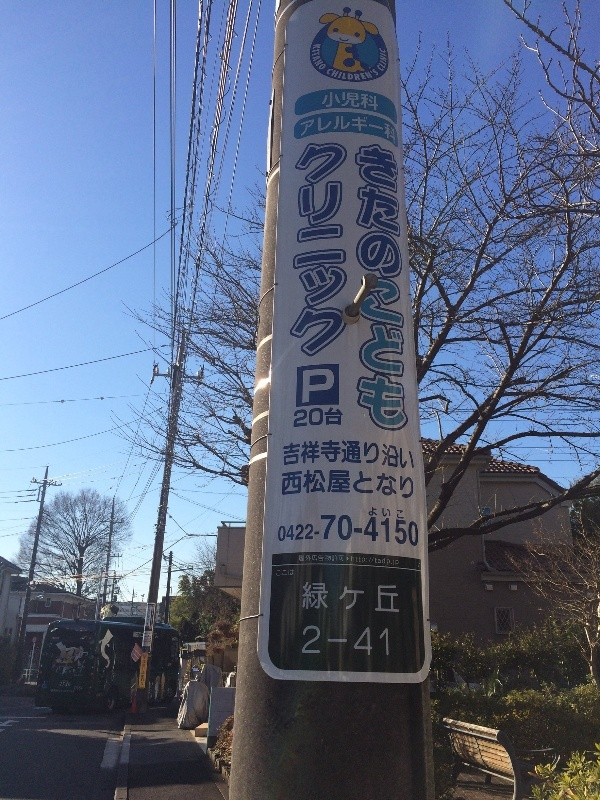text: (369, 144, 384, 434), (385, 144, 400, 434), (355, 144, 368, 434), (305, 141, 320, 358), (321, 141, 336, 358), (401, 144, 411, 434), (337, 141, 348, 358), (297, 141, 304, 358), (305, 368, 320, 405), (321, 511, 336, 547), (337, 511, 352, 547), (353, 511, 368, 547), (369, 511, 384, 547), (385, 511, 400, 547), (401, 511, 416, 547), (321, 368, 335, 405), (305, 113, 320, 147), (321, 113, 336, 147), (337, 113, 352, 147), (353, 113, 368, 147), (369, 113, 384, 147), (305, 624, 320, 656), (321, 624, 336, 656), (337, 624, 352, 656), (353, 624, 368, 656), (369, 624, 384, 656), (305, 582, 320, 613), (321, 582, 336, 613), (337, 582, 352, 613), (353, 582, 368, 613), (369, 582, 384, 613), (385, 582, 400, 613), (289, 439, 304, 469), (305, 439, 320, 469), (321, 439, 336, 469), (337, 439, 352, 469), (353, 439, 368, 469), (369, 439, 384, 469), (385, 439, 400, 469), (289, 469, 304, 499), (305, 469, 320, 499), (321, 469, 336, 499), (337, 469, 352, 499), (353, 469, 368, 499), (369, 469, 384, 499), (385, 469, 400, 499), (401, 439, 415, 469), (401, 469, 415, 499), (385, 113, 396, 147), (305, 407, 320, 429), (321, 407, 336, 429), (337, 92, 352, 113), (353, 92, 368, 113), (311, 43, 320, 77), (289, 523, 304, 542), (305, 523, 320, 542), (323, 92, 336, 113), (294, 407, 304, 429), (149, 605, 160, 625), (369, 92, 379, 113), (337, 67, 352, 81), (353, 67, 368, 81), (152, 605, 160, 630), (278, 523, 288, 542), (369, 67, 382, 81), (282, 469, 288, 499), (369, 507, 384, 519), (385, 507, 400, 519), (353, 555, 368, 567), (369, 555, 384, 567), (321, 43, 326, 77), (385, 555, 399, 567), (379, 46, 384, 77), (283, 439, 288, 469), (337, 407, 343, 429), (385, 624, 389, 656), (305, 555, 320, 562), (321, 555, 336, 562), (301, 113, 304, 147), (329, 67, 336, 81), (277, 569, 288, 577), (418, 562, 432, 568), (302, 368, 304, 405), (133, 632, 144, 638), (51, 689, 64, 694), (385, 46, 387, 77), (142, 659, 144, 685), (65, 689, 75, 694), (337, 555, 344, 562), (289, 569, 295, 577), (401, 507, 404, 519), (417, 511, 418, 547), (145, 639, 151, 645), (154, 632, 160, 638), (303, 582, 304, 613), (145, 633, 160, 635), (300, 555, 304, 562), (145, 659, 146, 685), (65, 682, 70, 687), (75, 686, 80, 691), (145, 636, 151, 639), (61, 682, 64, 687), (351, 555, 352, 567), (81, 686, 83, 691)
